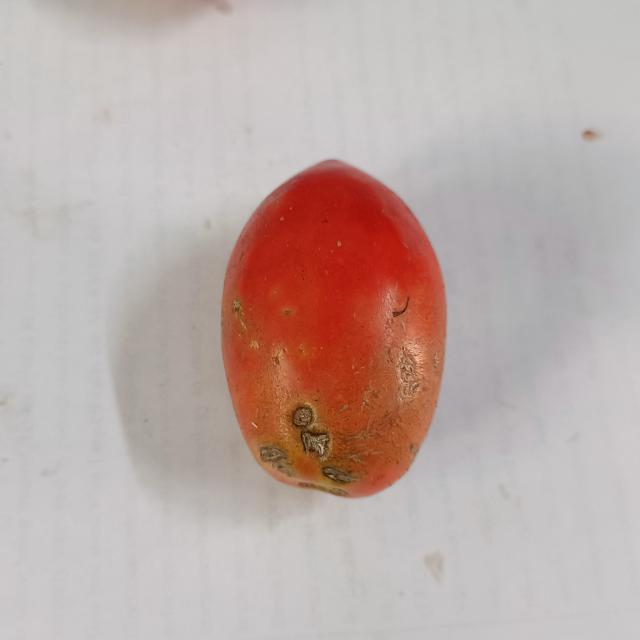Bacterial_Spot: (387, 328, 428, 412), (288, 398, 326, 454), (256, 442, 278, 464)
